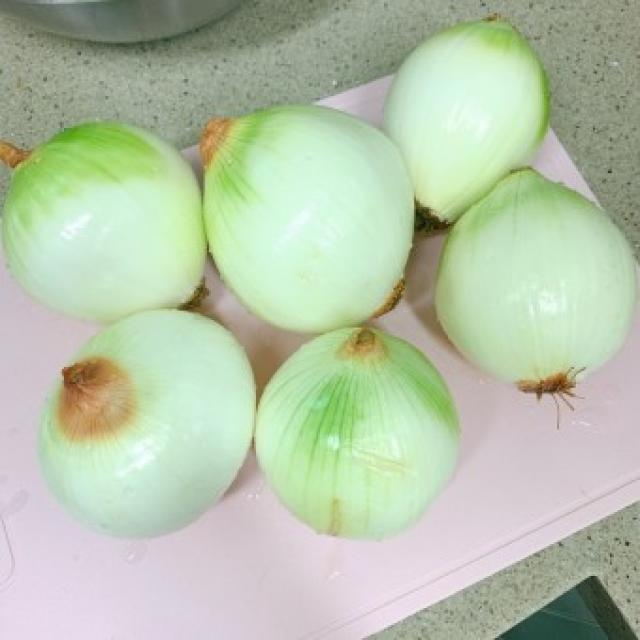onion: (32, 310, 254, 535), (194, 96, 404, 328), (436, 161, 640, 397), (258, 326, 464, 542), (0, 109, 209, 307), (376, 11, 554, 192)
